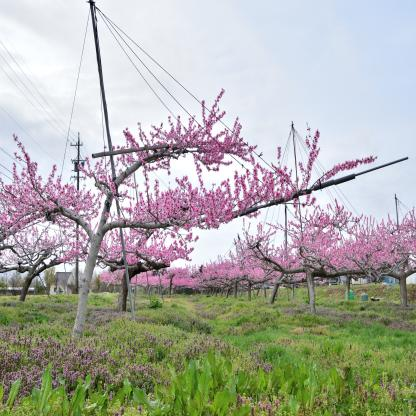Momo: (1, 61, 379, 304), (233, 189, 378, 289), (325, 202, 416, 291), (0, 223, 92, 296), (191, 246, 290, 288), (99, 266, 193, 286)
